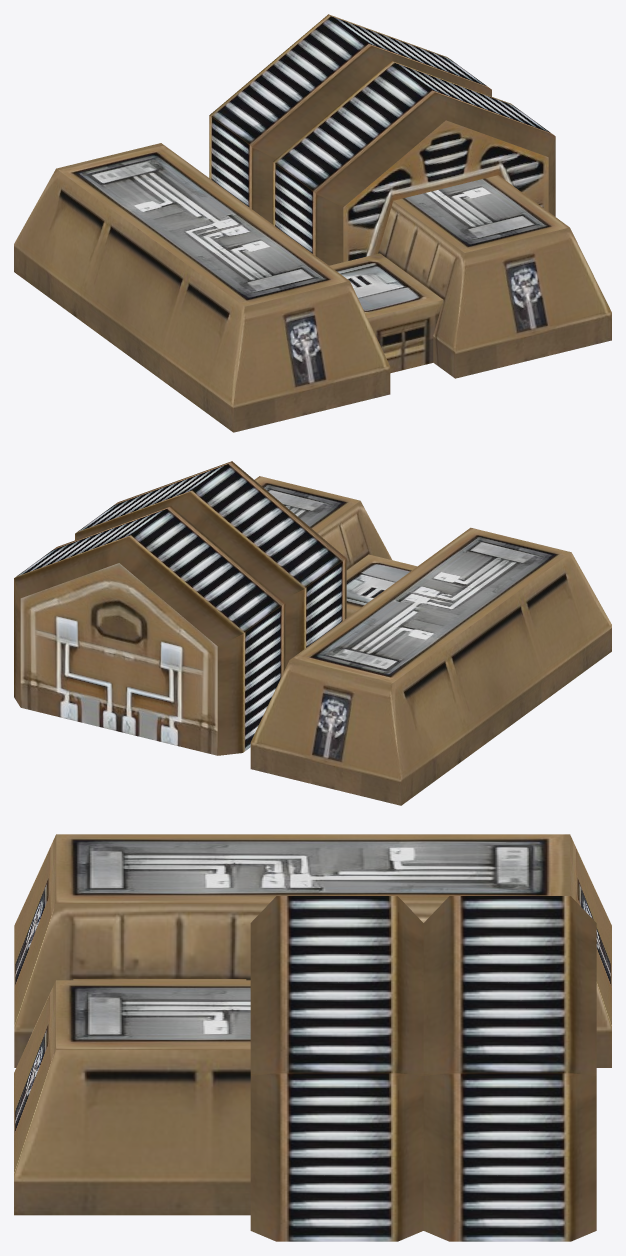
Rendered from hpg_gen_hdtex.glb.
3 views of the same model, one above another, from view 1: azimuth 30°, elevation 25°; view 2: azimuth 150°, elevation 25°; view 3: azimuth 270°, elevation 25° (orthographic). The views are drawn at different scales.
Parts seen in each view (by area): view 1: HPG_Generator; view 2: HPG_Generator; view 3: HPG_Generator.
Part boxes in pixels (x1,y1,x2,y2): HPG_Generator: (14, 14, 611, 432); HPG_Generator: (14, 461, 611, 805); HPG_Generator: (14, 834, 611, 1241).
Size of the model in its own units: 23.72 by 10.61 by 21.56.
Materials: 1 (1 with a texture image).
